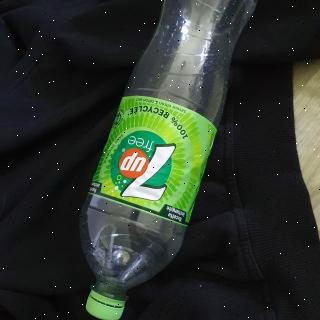Plastic-bottle: (64, 1, 271, 320)
